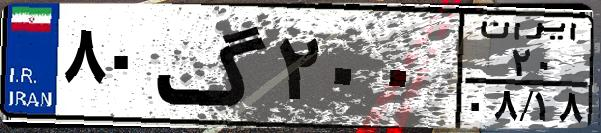0: (385, 28, 445, 110), (330, 28, 385, 110), (110, 28, 156, 98), (537, 27, 568, 80), (470, 70, 495, 125)
1: (535, 70, 560, 125)
2: (270, 28, 330, 110), (508, 27, 537, 80)
8: (57, 26, 110, 100), (560, 70, 590, 125), (495, 70, 520, 125)
گ: (156, 12, 270, 120)
